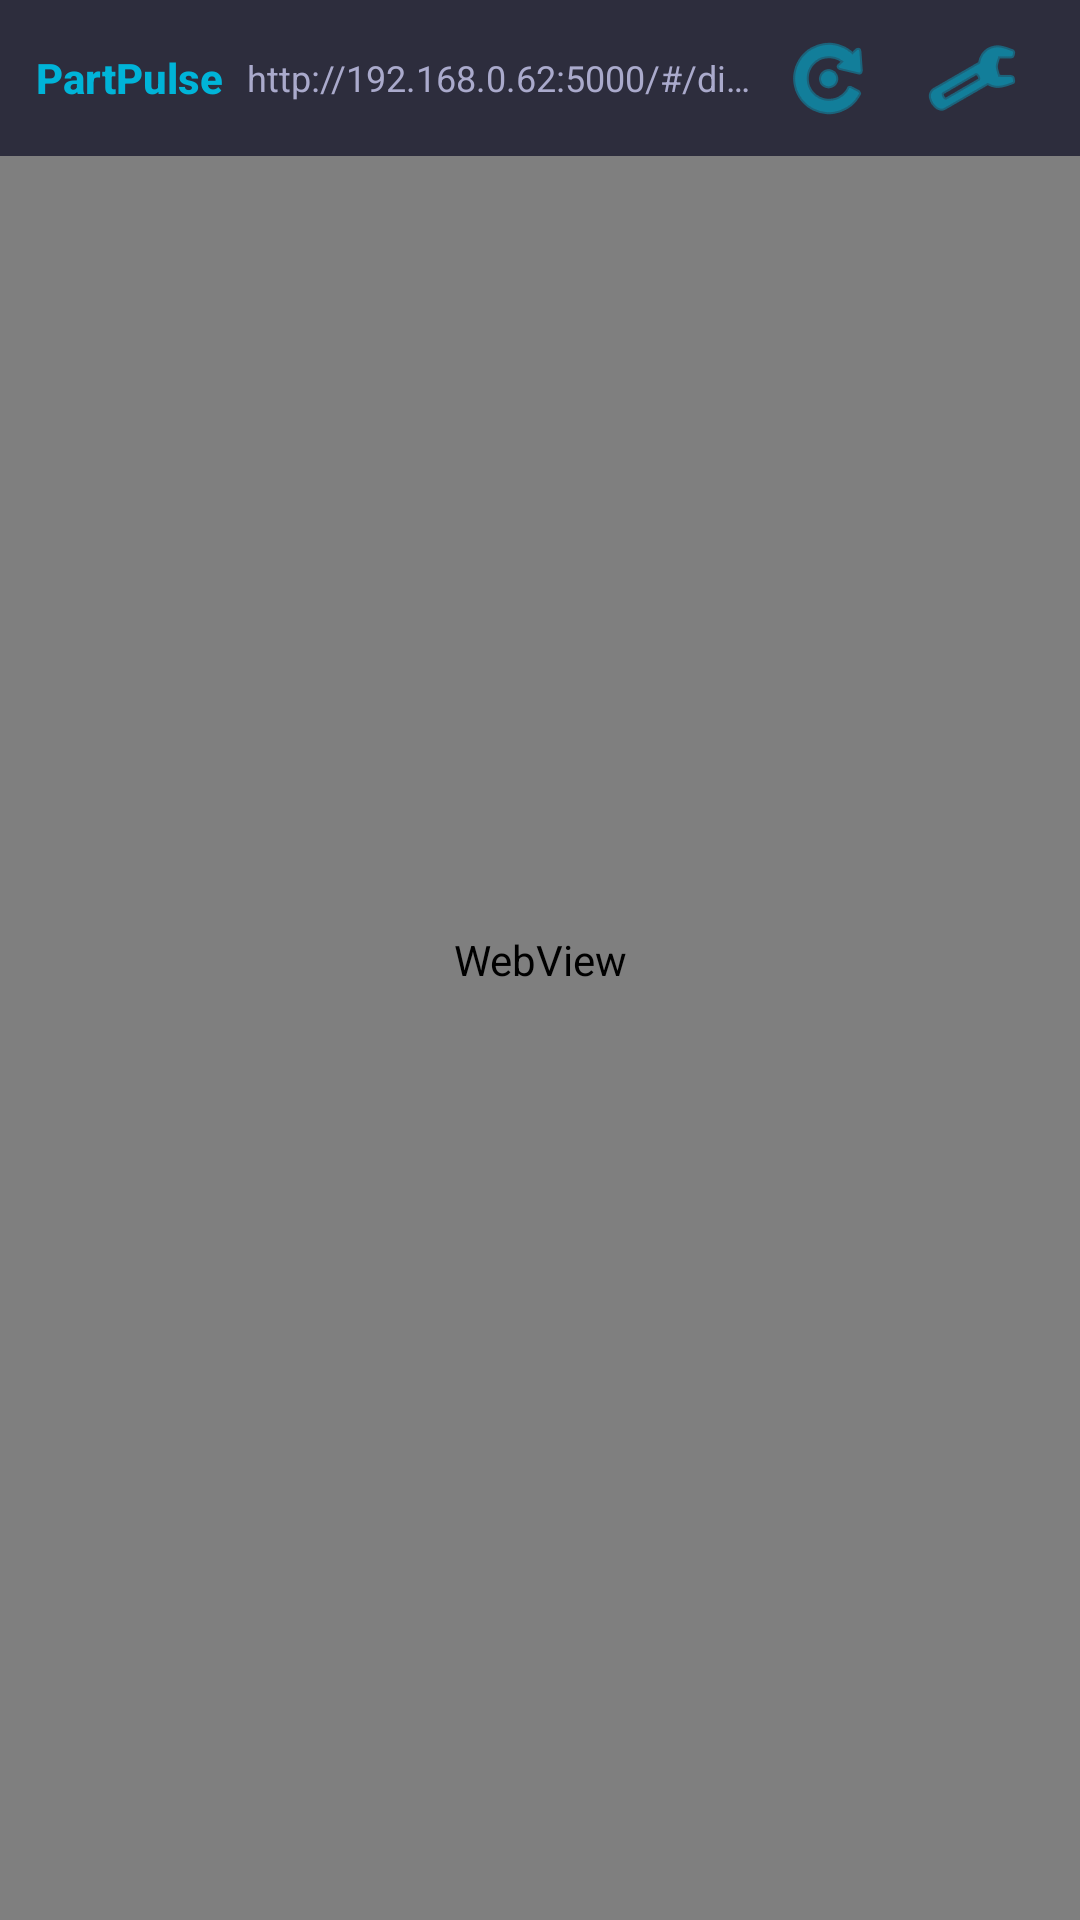

Icon click points for this 1080w x 1920h phone screenshot, format point (x, y):
Refresh: point (828, 78)
Settings: point (972, 78)
